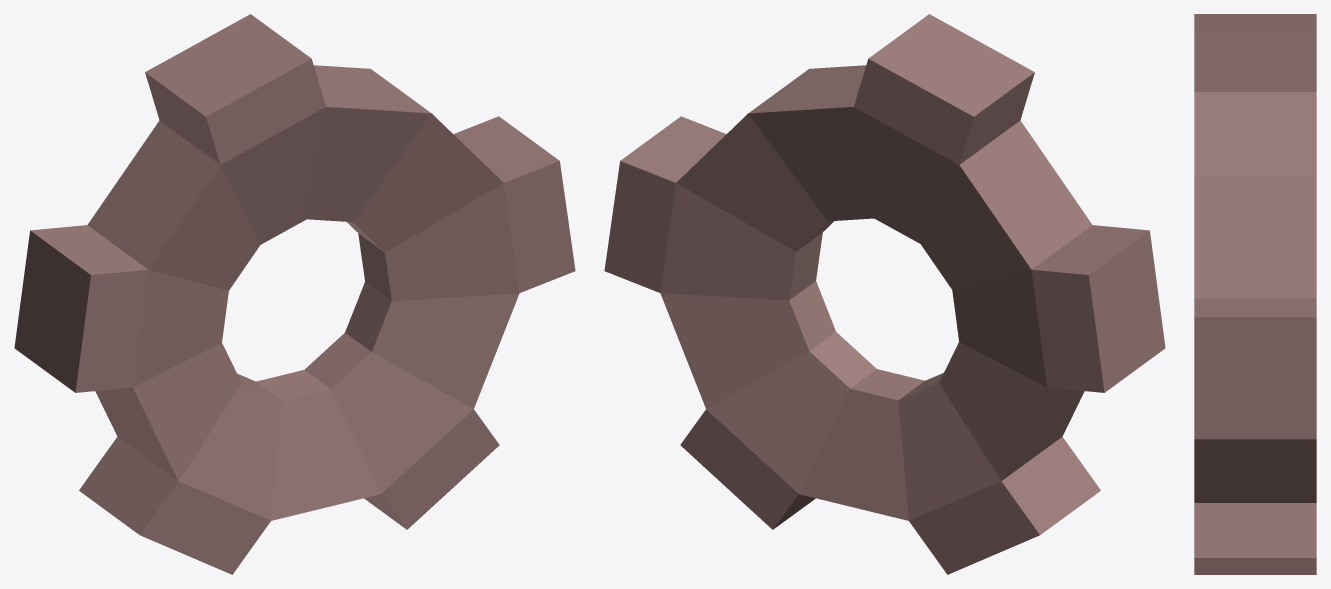
The model's file is Gear.fbx.
3 views of the same model, side by side, from view 1: azimuth 30°, elevation 25°; view 2: azimuth 150°, elevation 25°; view 3: azimuth 270°, elevation 25° (orthographic).
Parts seen in each view (by area): view 1: Cylinder; view 2: Cylinder; view 3: Cylinder.
Boxes of the visible parts, left/top/right/bottom form: Cylinder: left=14, top=14, right=575, bottom=574; Cylinder: left=604, top=14, right=1165, bottom=574; Cylinder: left=1194, top=14, right=1316, bottom=574.
Size of the model in its own units: 256 by 243 by 54.09.
